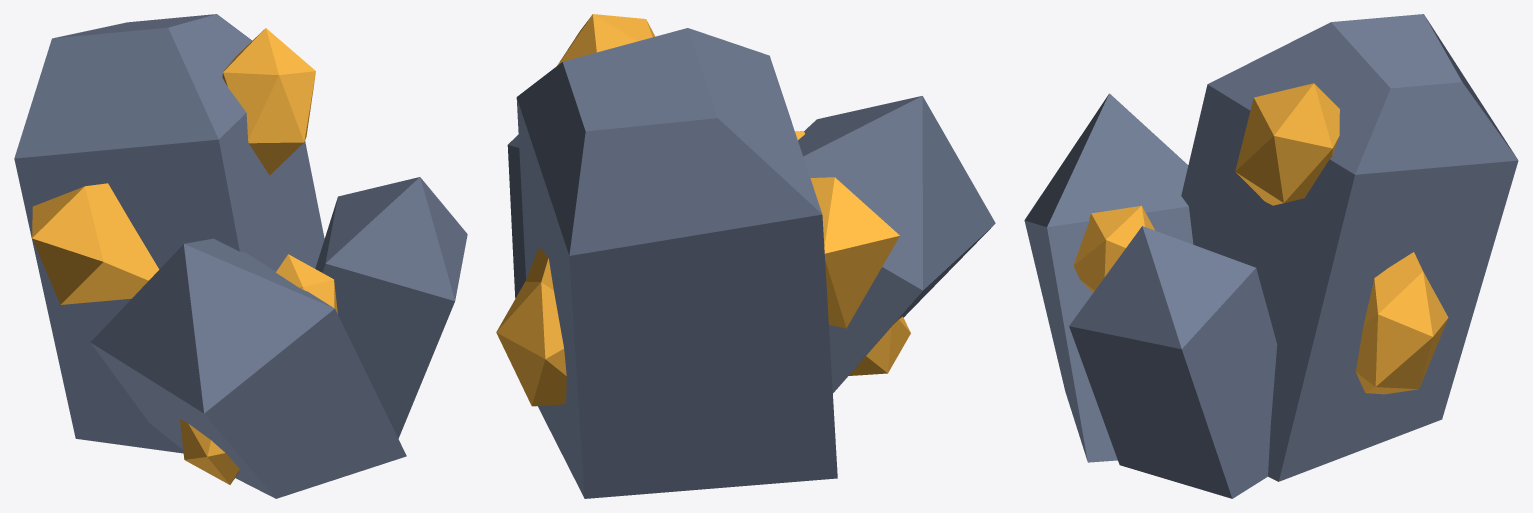
File: resource_stone2.fbx
3 views of the same model, side by side, from view 1: azimuth 30°, elevation 25°; view 2: azimuth 150°, elevation 25°; view 3: azimuth 270°, elevation 25° (orthographic). The views are drawn at different scales.
Visible parts, largest first — view 1: resource_stone2; view 2: resource_stone2; view 3: resource_stone2.
Boxes of the visible parts, x1=… form: resource_stone2: x1=14, y1=14, x2=467, y2=498; resource_stone2: x1=496, y1=14, x2=995, y2=498; resource_stone2: x1=1024, y1=14, x2=1518, y2=498.
Bounding box in the file's own units: 94.69 × 87.12 × 103.
